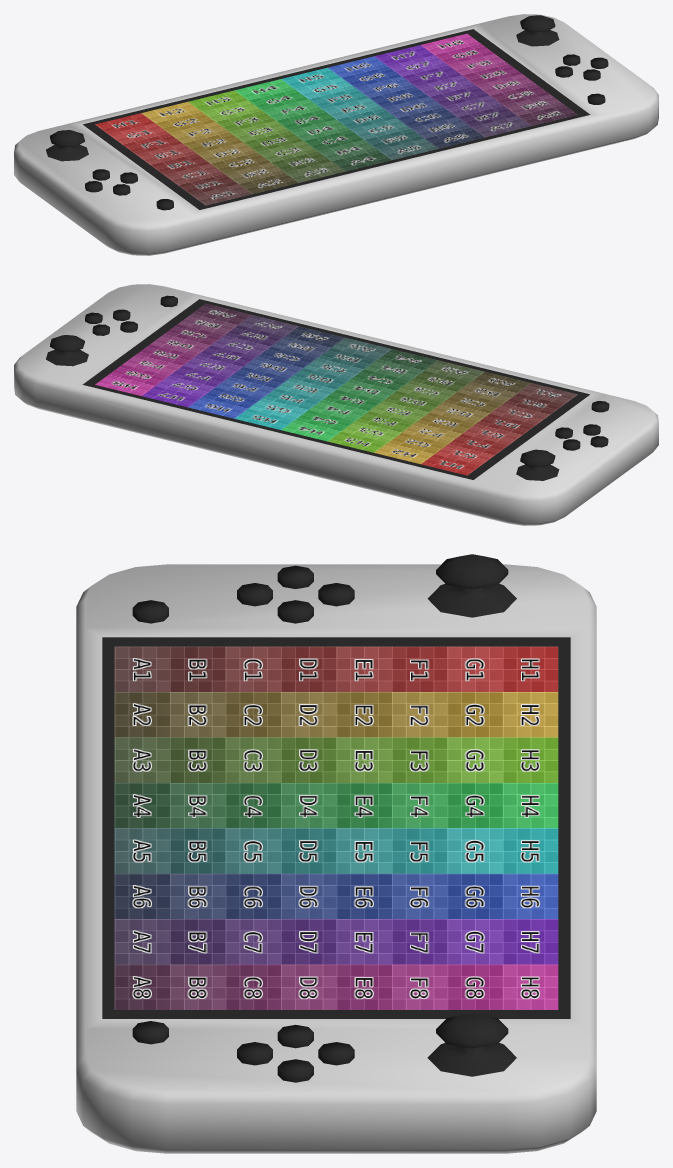
File: handheld-game-console.glb
3 views of the same model, one above another, from view 1: azimuth 30°, elevation 25°; view 2: azimuth 150°, elevation 25°; view 3: azimuth 270°, elevation 25° (orthographic). The views are drawn at different scales.
Visible parts, largest first — view 1: Cube.001, __X_SCREEN__, Button.012; view 2: Cube.001, __X_SCREEN__, Button.012; view 3: __X_SCREEN__, Cube.001, Button.012.
Boxes of the visible parts, box(x1,y1,x2,y2) form: Cube.001: box(14, 14, 658, 255); __X_SCREEN__: box(95, 33, 577, 205); Button.012: box(46, 15, 608, 210); Cube.001: box(14, 284, 658, 525); __X_SCREEN__: box(95, 303, 577, 475); Button.012: box(46, 295, 609, 480); __X_SCREEN__: box(114, 646, 558, 1009); Cube.001: box(76, 564, 596, 1153); Button.012: box(132, 554, 516, 1082).
Size of the model in its own units: 0.28 by 0.024 by 0.115.
Materials: 3 (1 with a texture image).
